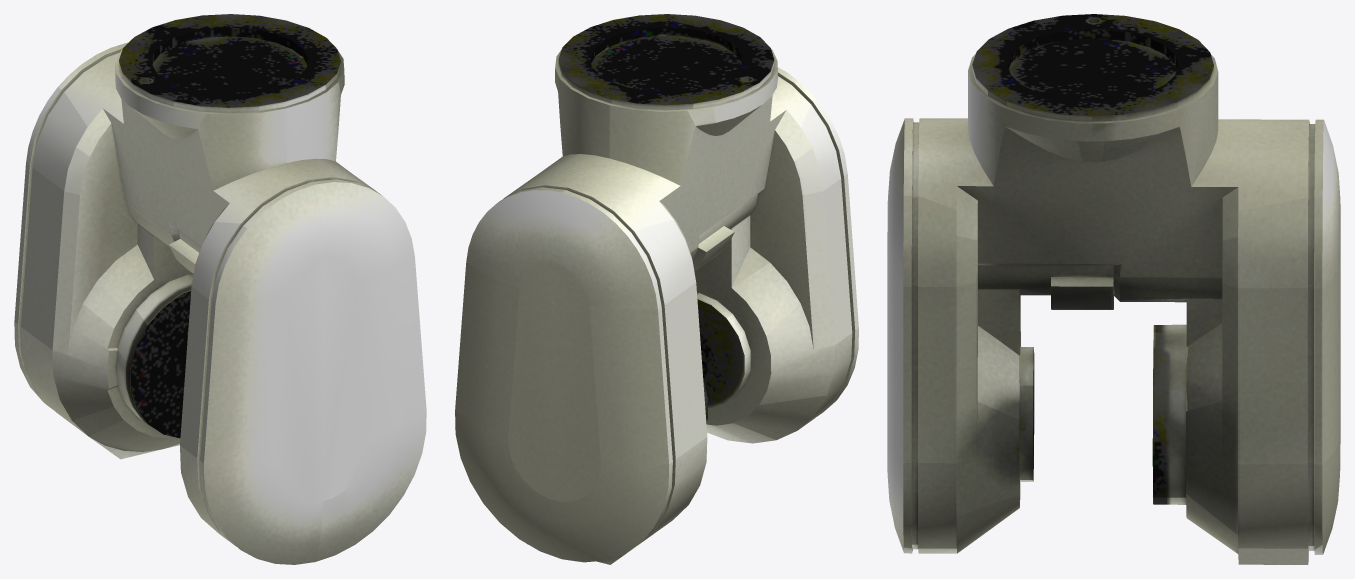
File: robot1_arm4.glb
The picture shows the model from 3 angles, left to right: view 1: azimuth 30°, elevation 25°; view 2: azimuth 150°, elevation 25°; view 3: azimuth 270°, elevation 25°; orthographic projection. The views are drawn at different scales.
Parts seen in each view (by area): view 1: Asset3DLoader.sceneRoot; view 2: Asset3DLoader.sceneRoot; view 3: Asset3DLoader.sceneRoot.
Part boxes in pixels (x1,y1,x2,y2): Asset3DLoader.sceneRoot: (14,14,426,564); Asset3DLoader.sceneRoot: (455,14,858,564); Asset3DLoader.sceneRoot: (887,14,1340,564).
Bounding box in the file's own units: 135 × 252 × 217.
Materials: 1 (1 with a texture image).
